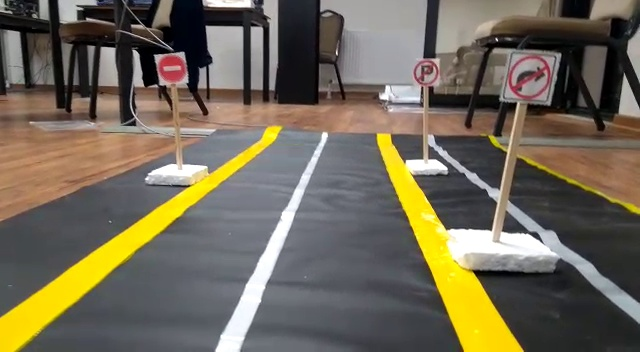girisi_olmayan_yol: (154, 54, 187, 84)
park_yapilmaz: (413, 60, 442, 87)
saga_donulmez: (503, 51, 555, 101)
